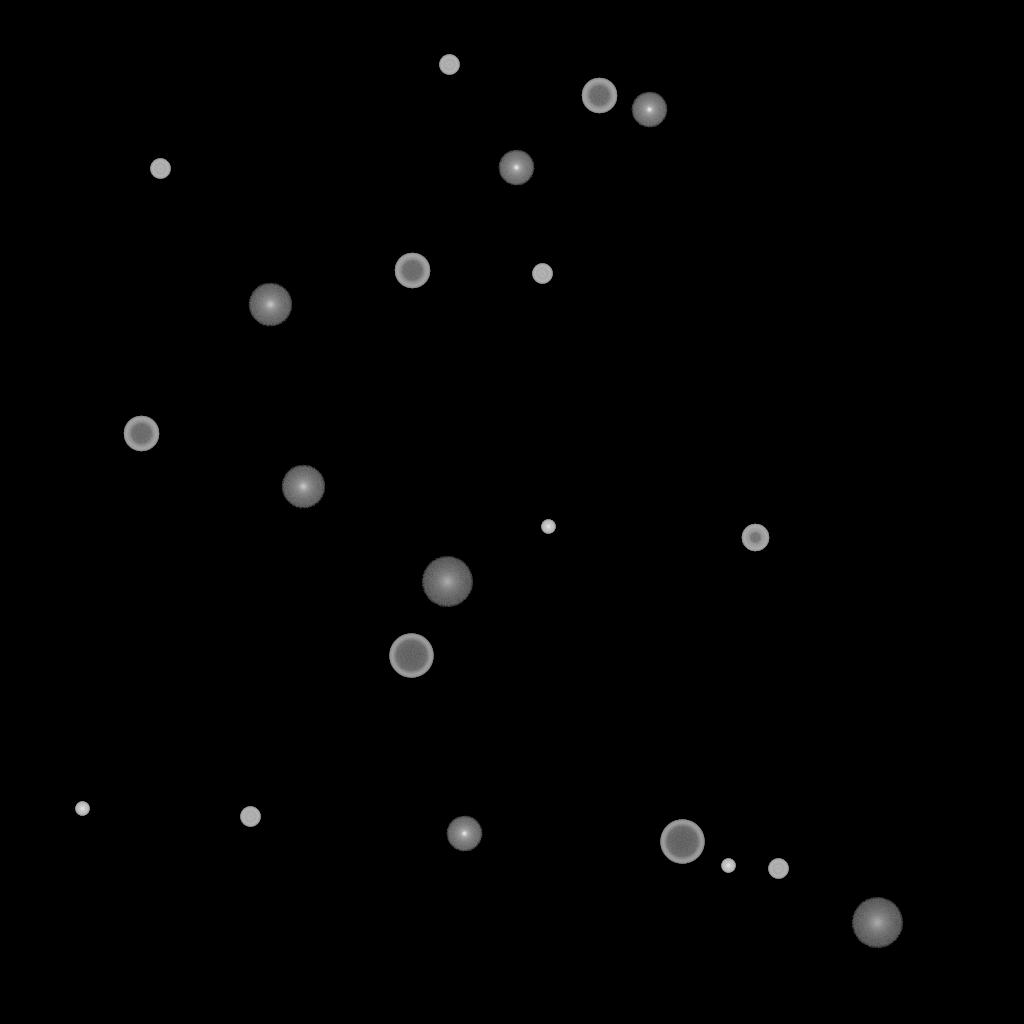depth:-30: (721, 859, 735, 873), (75, 802, 89, 816), (541, 520, 555, 534)
depth:-40: (150, 159, 170, 179), (439, 55, 459, 75), (768, 859, 788, 879), (240, 807, 260, 827), (532, 264, 552, 284)
depth:-50: (741, 524, 769, 552)
depth:-60: (394, 253, 430, 289), (123, 416, 159, 452), (581, 78, 617, 114)
depth:-70: (660, 820, 704, 864), (389, 634, 433, 678)
depth:0: (446, 816, 482, 852), (498, 150, 534, 186), (631, 92, 667, 128)
depth:10: (281, 465, 325, 509), (248, 283, 292, 327)
depth:20: (421, 557, 473, 607), (851, 898, 903, 948)
